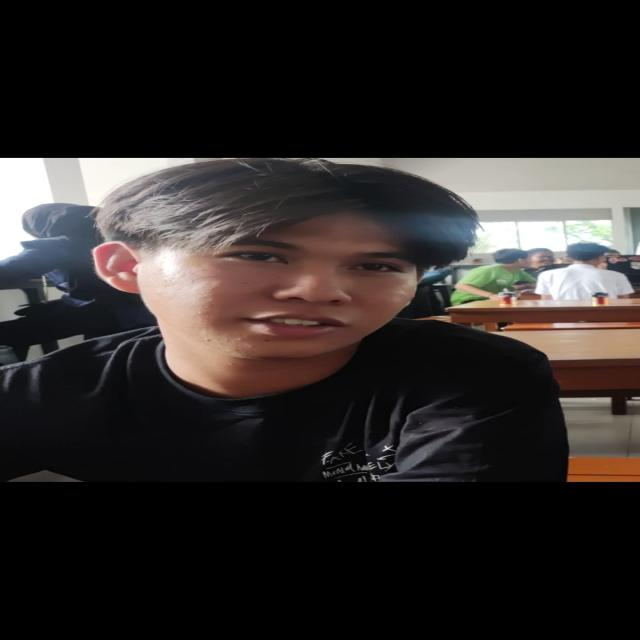sem_oculos: (93, 218, 516, 288)
